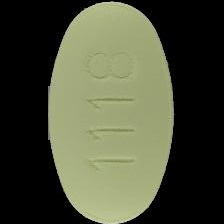13668-118: (0, 0, 224, 224)
